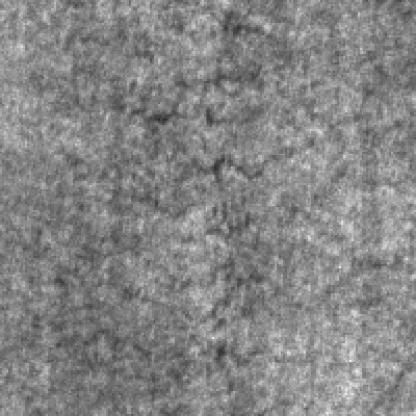crazing: (97, 119, 393, 337), (67, 25, 280, 131)
